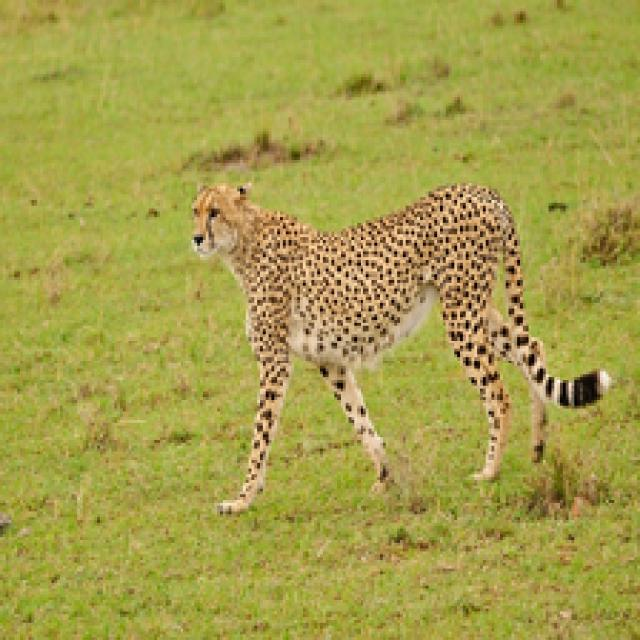cheetah: (152, 156, 597, 530)
